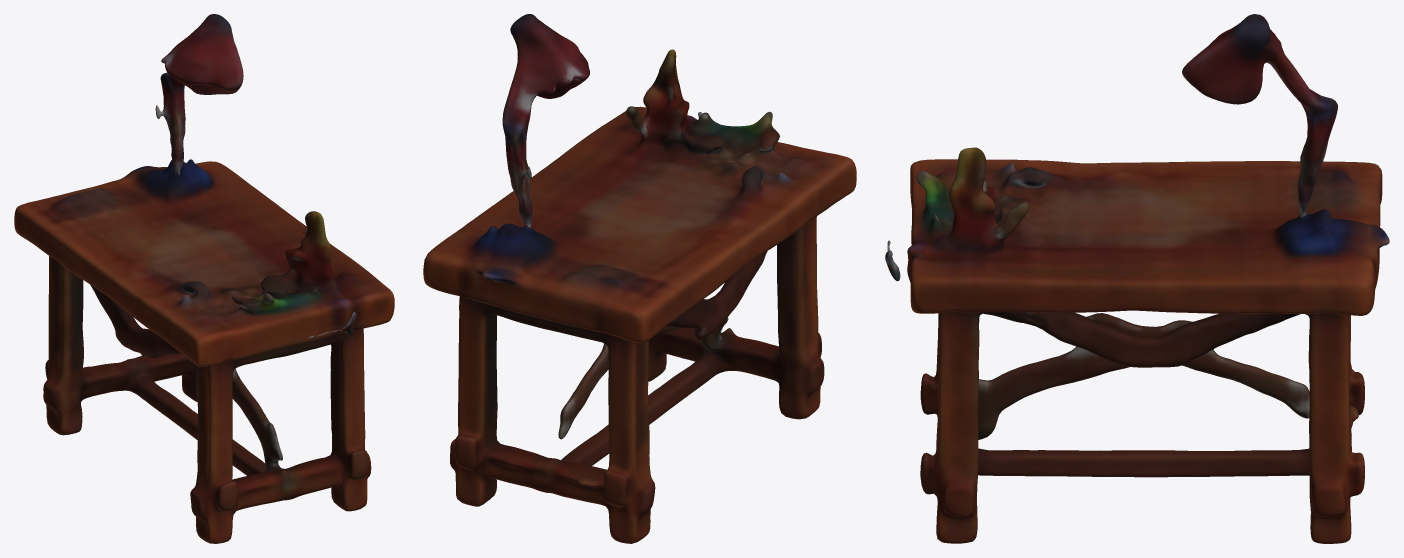
The model's file is woodTable1.fbx.
The picture shows the model from 3 angles, left to right: view 1: azimuth 30°, elevation 25°; view 2: azimuth 150°, elevation 25°; view 3: azimuth 270°, elevation 25°; orthographic projection. The views are drawn at different scales.
Parts seen in each view (by area): view 1: high_poly; view 2: high_poly; view 3: high_poly.
Boxes of the visible parts, box(x1,y1,x2,y2) form: high_poly: box(14, 14, 394, 543); high_poly: box(423, 14, 856, 543); high_poly: box(885, 14, 1389, 543).
Size of the model in its own units: 52.08 by 100 by 89.01.
